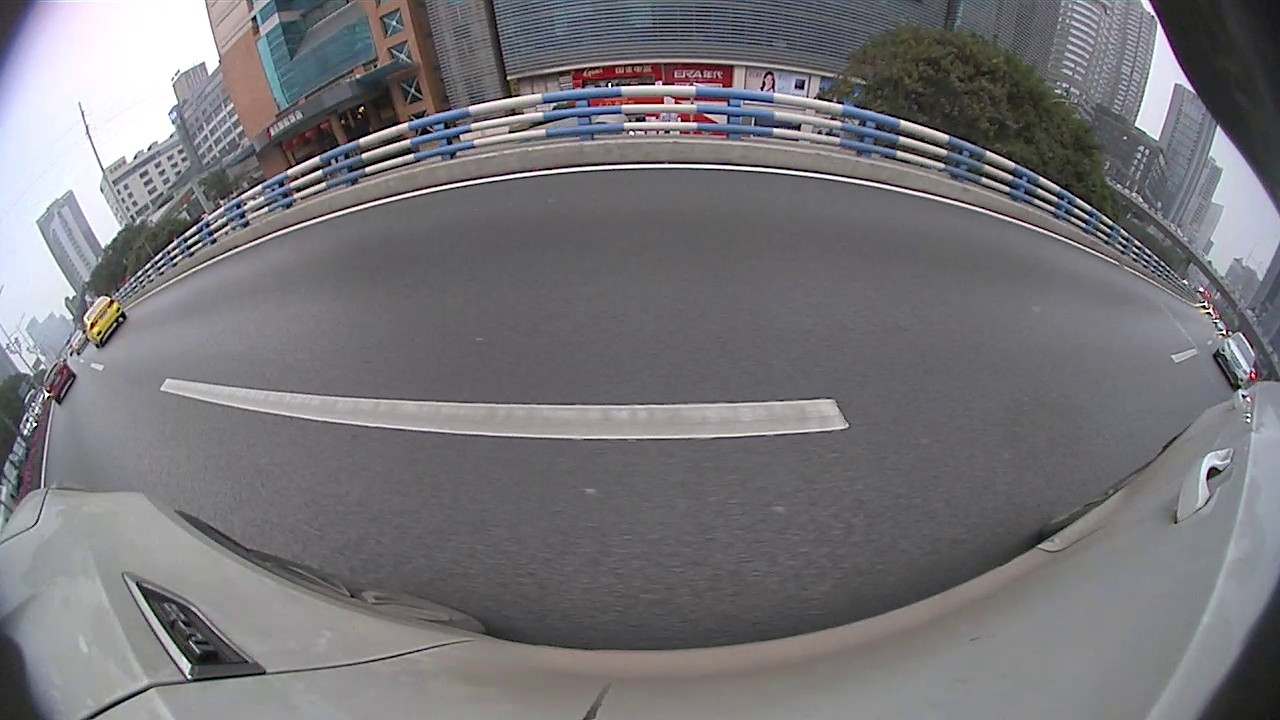bus: (1, 199, 247, 308), (291, 184, 364, 221), (716, 137, 782, 175), (664, 148, 690, 174), (694, 153, 713, 173)
car: (933, 184, 1279, 476), (1, 264, 231, 475), (542, 126, 655, 228), (397, 155, 520, 229), (124, 221, 247, 282), (260, 206, 348, 242)
front: (121, 313, 205, 408), (953, 240, 1032, 330), (510, 182, 521, 204)
rear: (471, 187, 486, 217)
